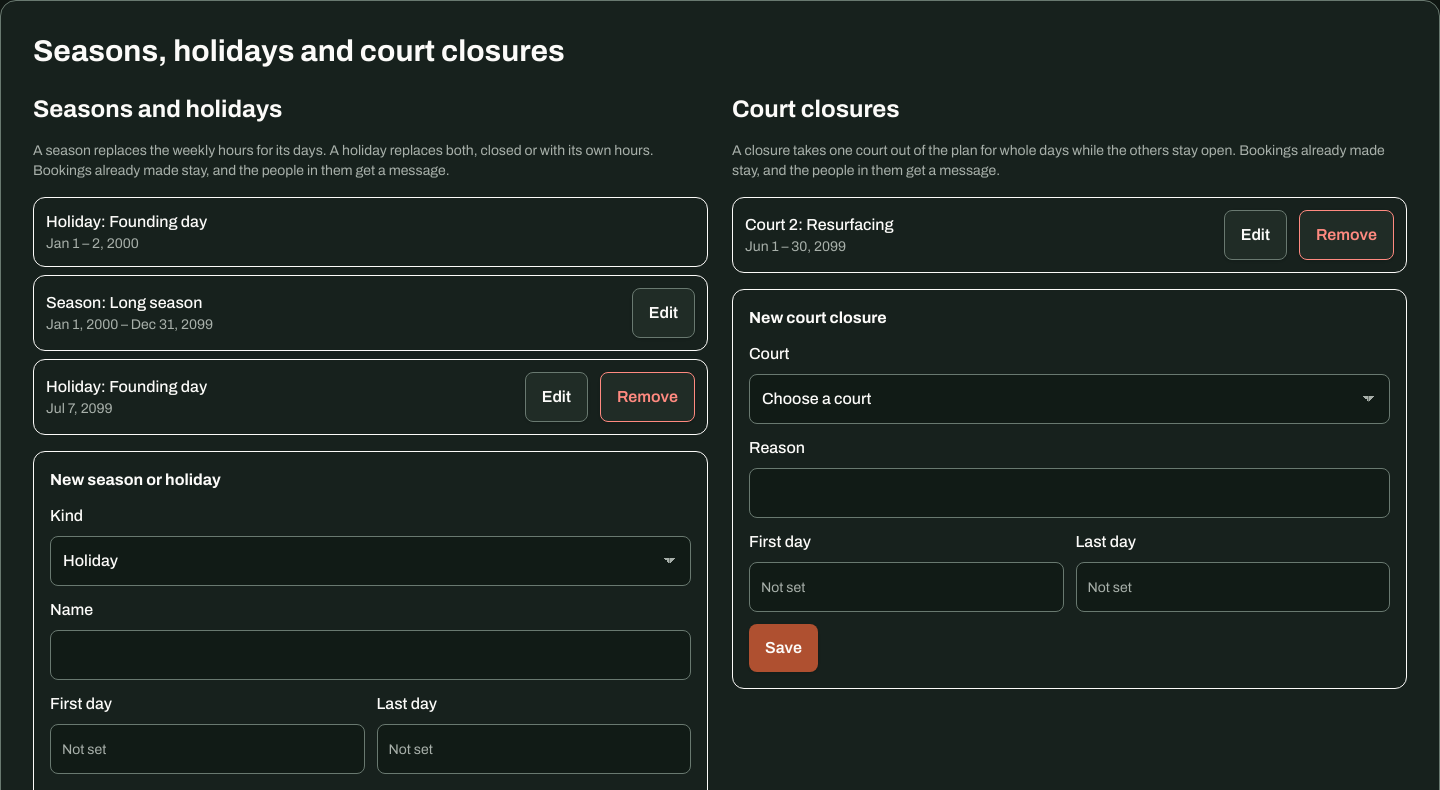
Test: AdminAvailabilityView › given a new holiday ticked closed, when it is saved, then every weekday is sent closed and the list reloads
Type "Founding day" into the field with test id "opening-period-name" at point(370, 655), box [50,630,691,680]
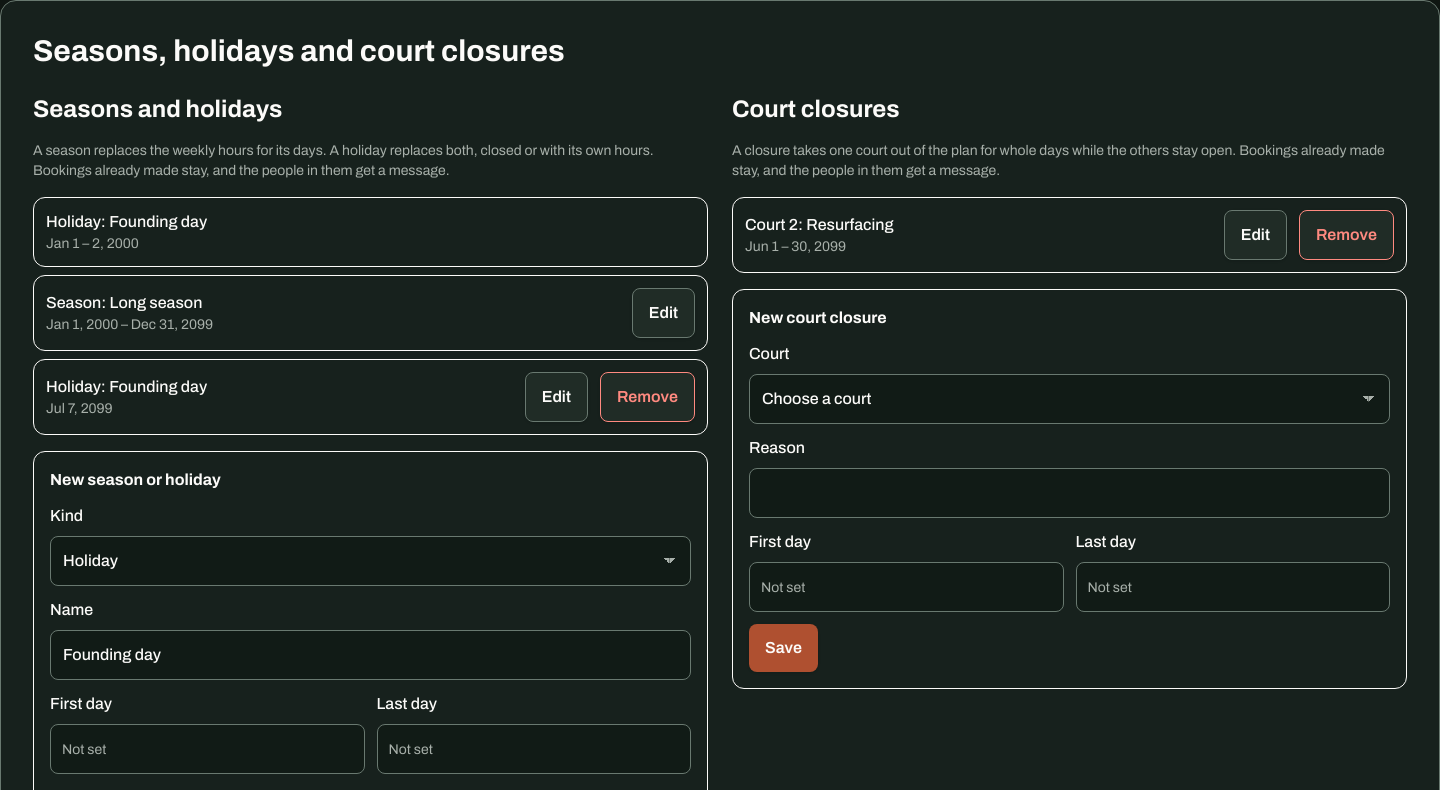
Type "2099-07-07" into the field with test id "opening-period-starts-on" at point(207, 749), box [50,724,364,774]
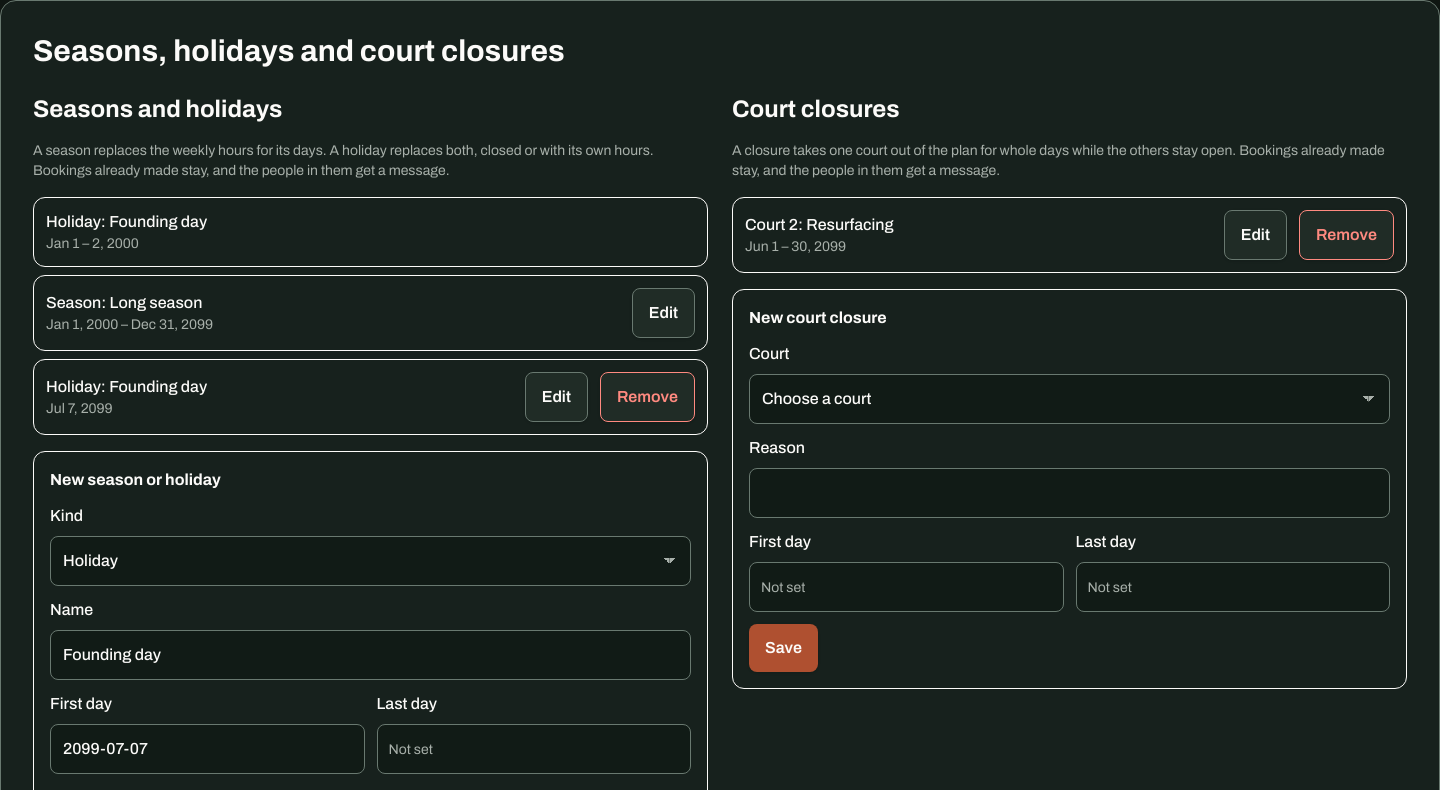
Type "2099-07-07" into the field with test id "opening-period-ends-on" at point(534, 749), box [376,724,691,774]
(page scrolled)
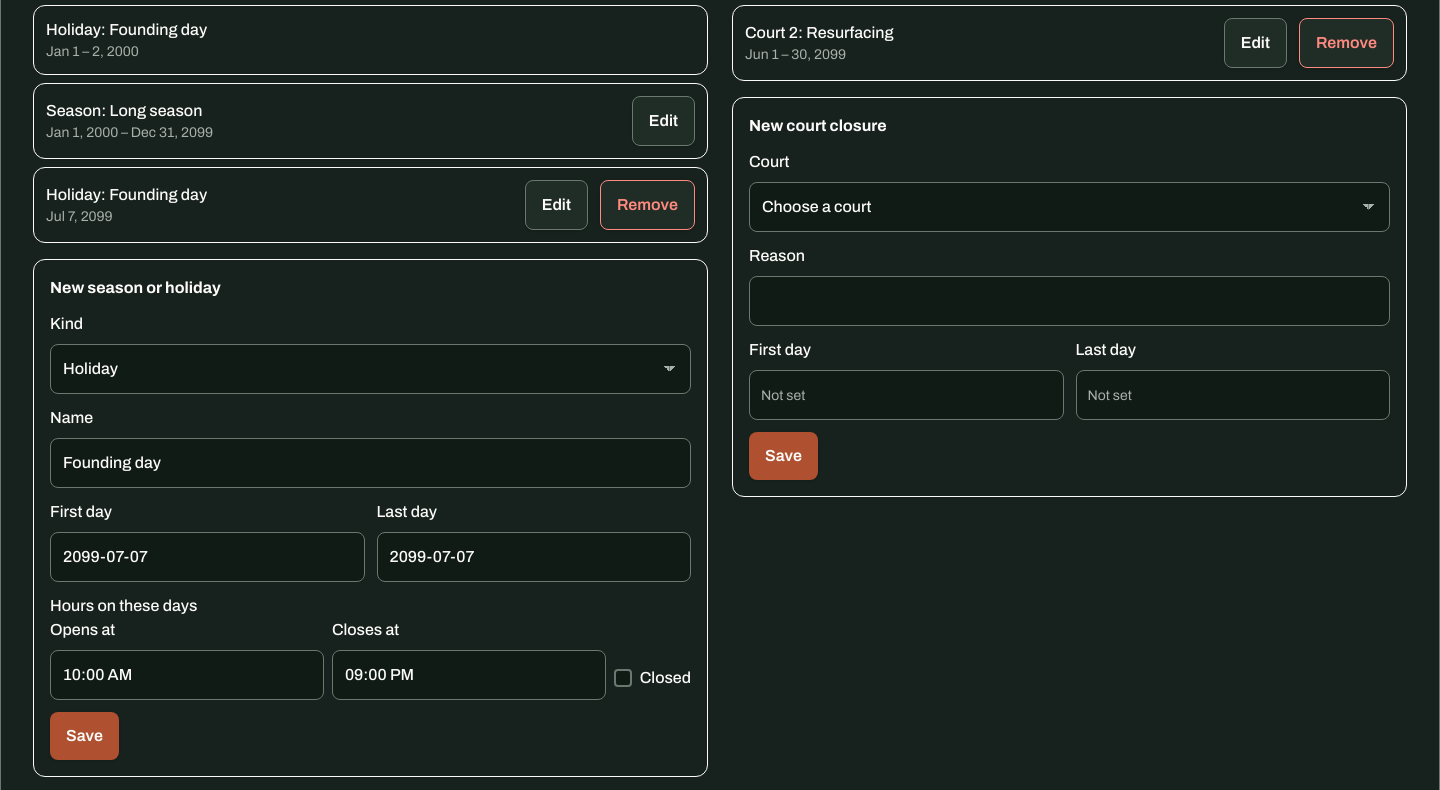
Click the checkbox with test id "opening-period-closed-MONDAY" at point(623, 678), box [614,669,632,687]
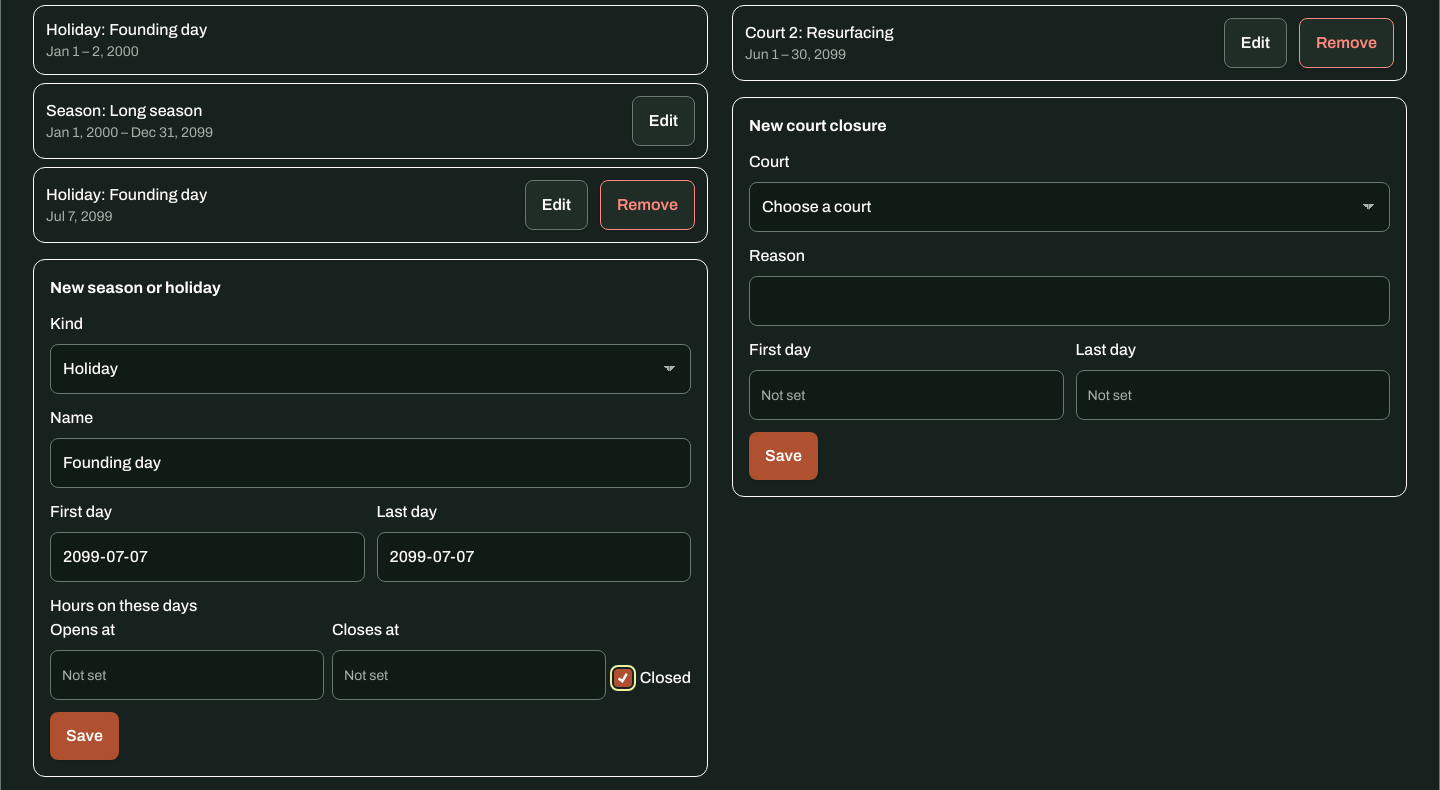
Click the button with test id "save-opening-period" at point(84, 736), box [50,712,119,760]
(page scrolled)
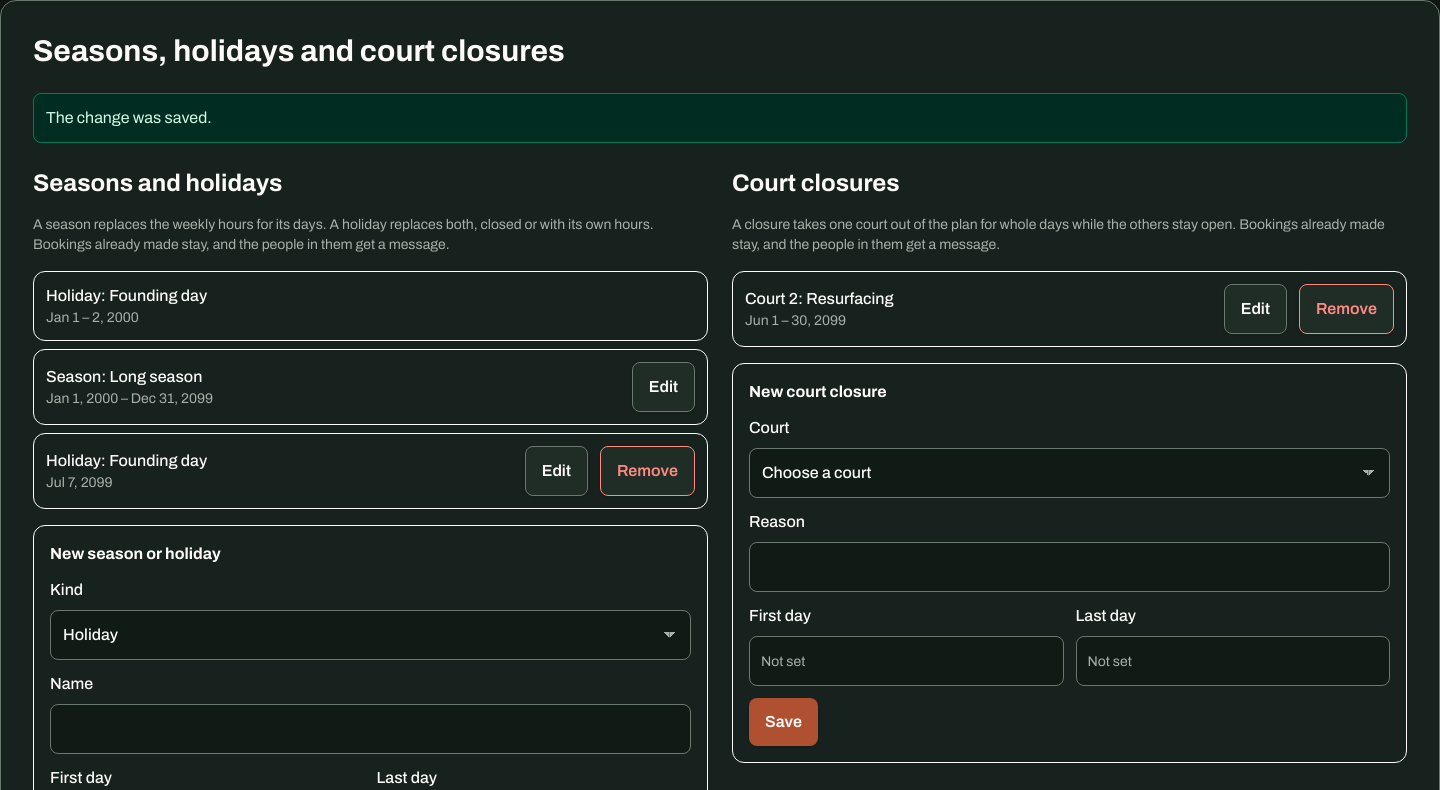
Now the message "The change was saved." is shown, box [33,93,1407,143]
